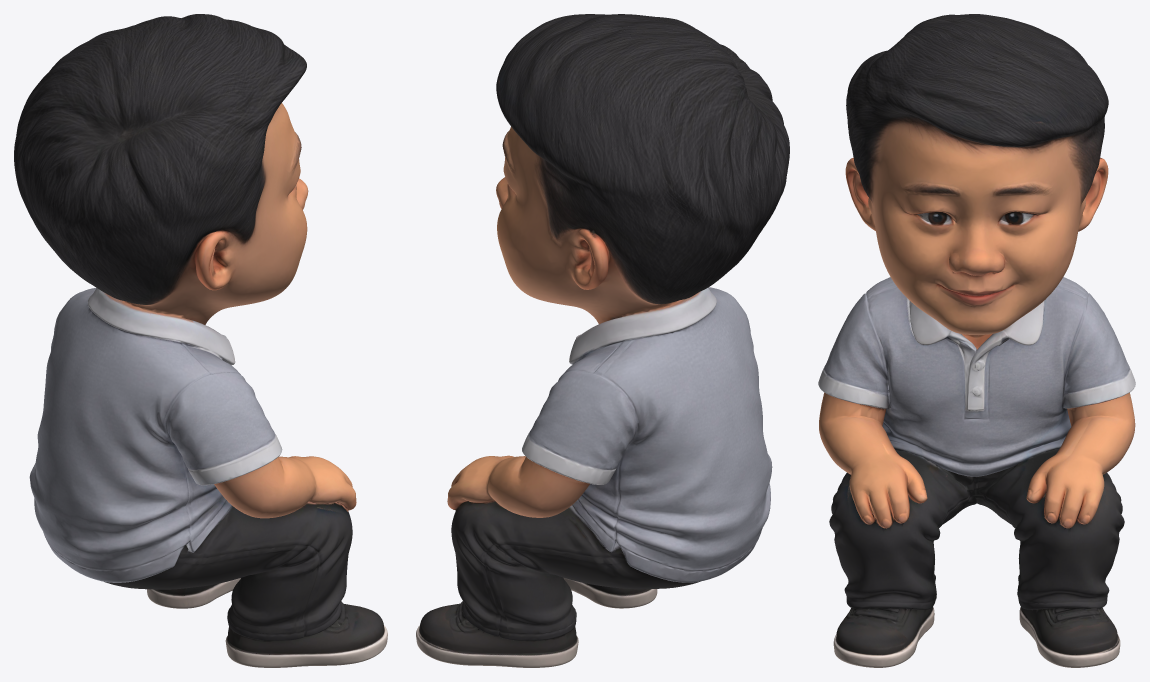
3 renders of one model, left to right at view 1: azimuth 30°, elevation 25°; view 2: azimuth 150°, elevation 25°; view 3: azimuth 270°, elevation 25°, orthographic. The views are drawn at different scales.
Visible parts, largest first — view 1: tripo_node_932a9352-2849-450a-9baf-804deac32598; view 2: tripo_node_932a9352-2849-450a-9baf-804deac32598; view 3: tripo_node_932a9352-2849-450a-9baf-804deac32598.
Boxes of the visible parts, x1,y1,x2,y2 form: tripo_node_932a9352-2849-450a-9baf-804deac32598: (14, 14, 387, 667); tripo_node_932a9352-2849-450a-9baf-804deac32598: (416, 14, 789, 667); tripo_node_932a9352-2849-450a-9baf-804deac32598: (818, 14, 1135, 667).
Bounding box in the file's own units: 0.4939 × 0.9801 × 0.4929.
1 material, 1 textured.
